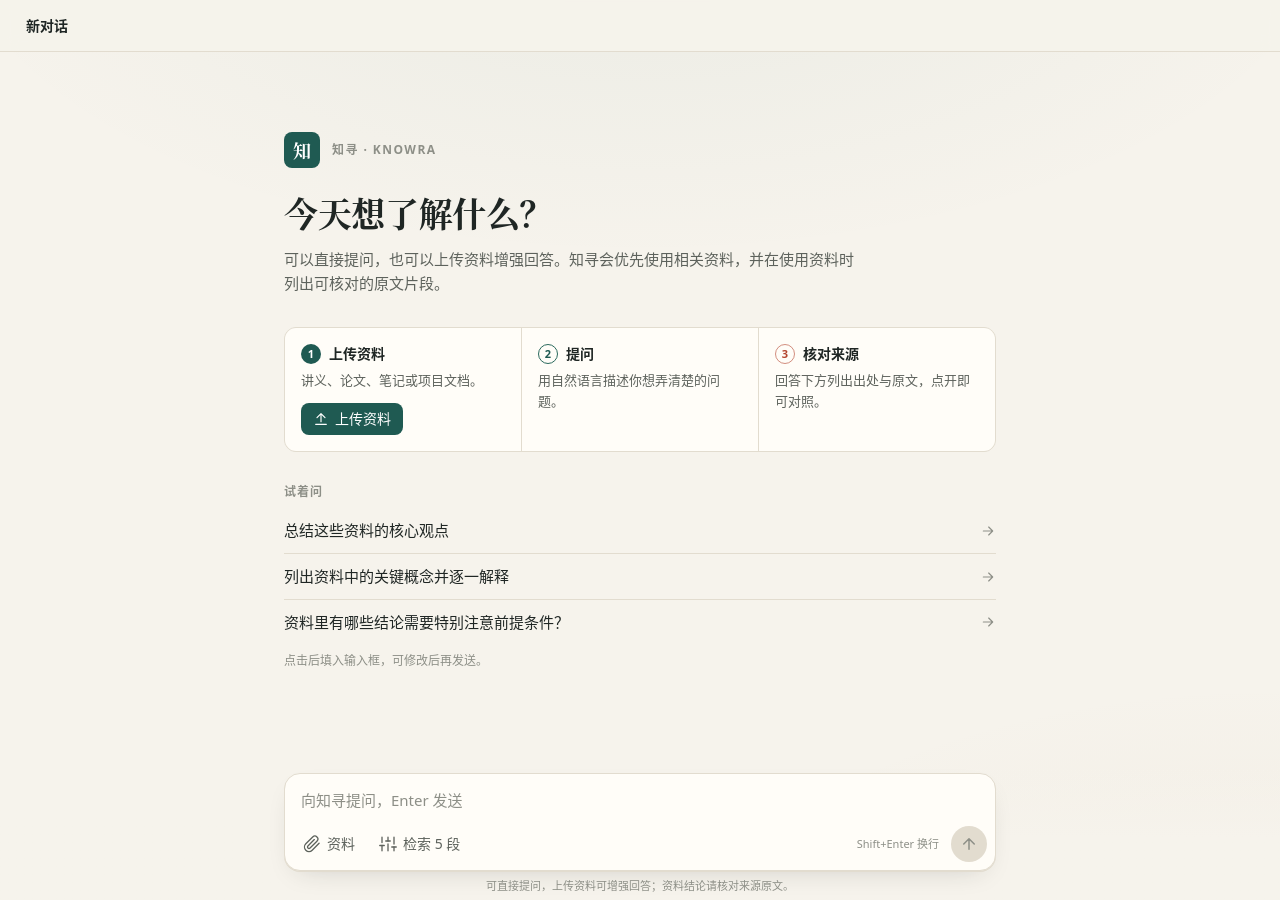
ChatArea 流式回答 › 正文出现前失败仍显示明确原因
Type "什么是特征值" into the text box with test id "chat-input" at (640, 800), box x1=285 y1=774 x2=995 y2=826
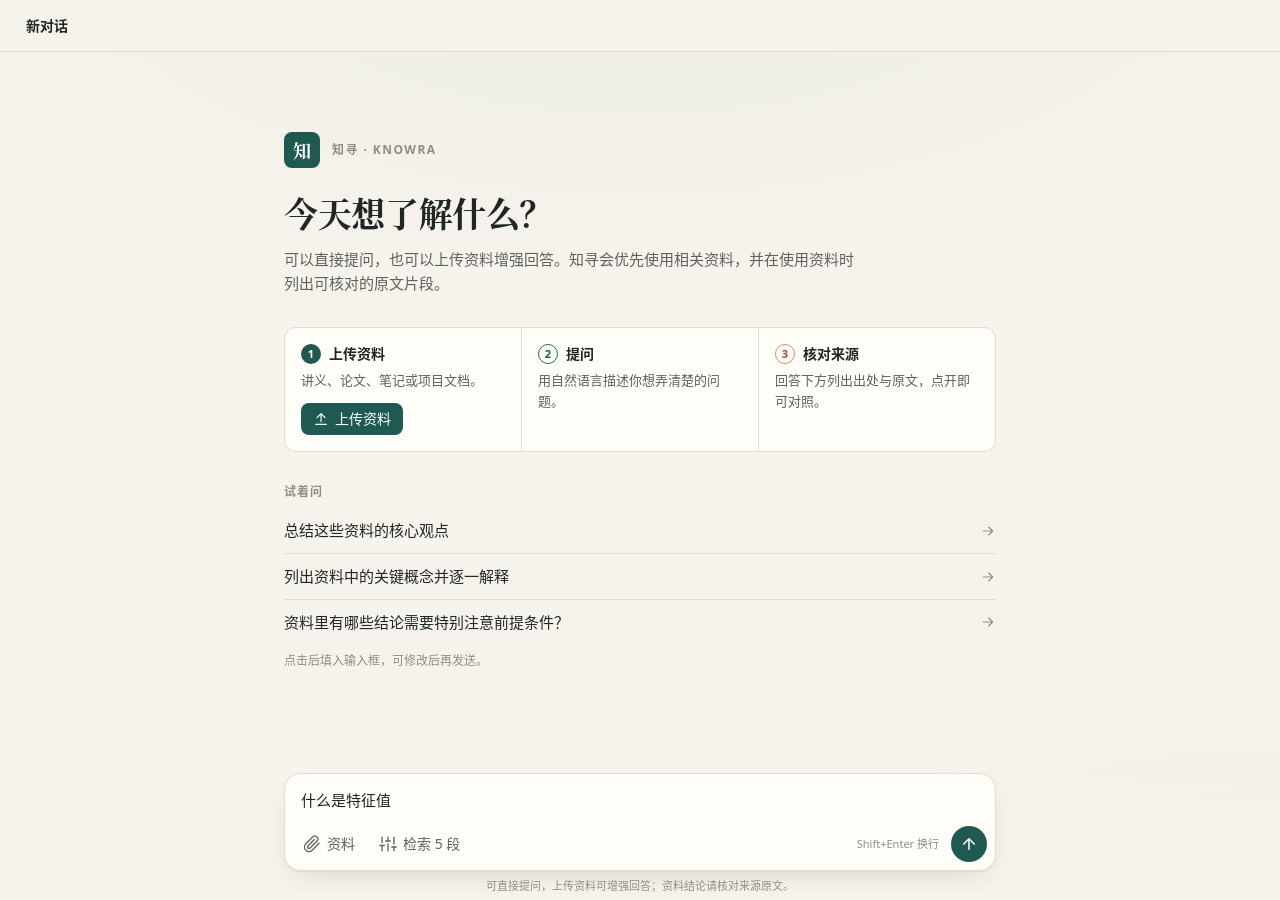
Press Enter in the text box with test id "chat-input", box x1=285 y1=774 x2=995 y2=826
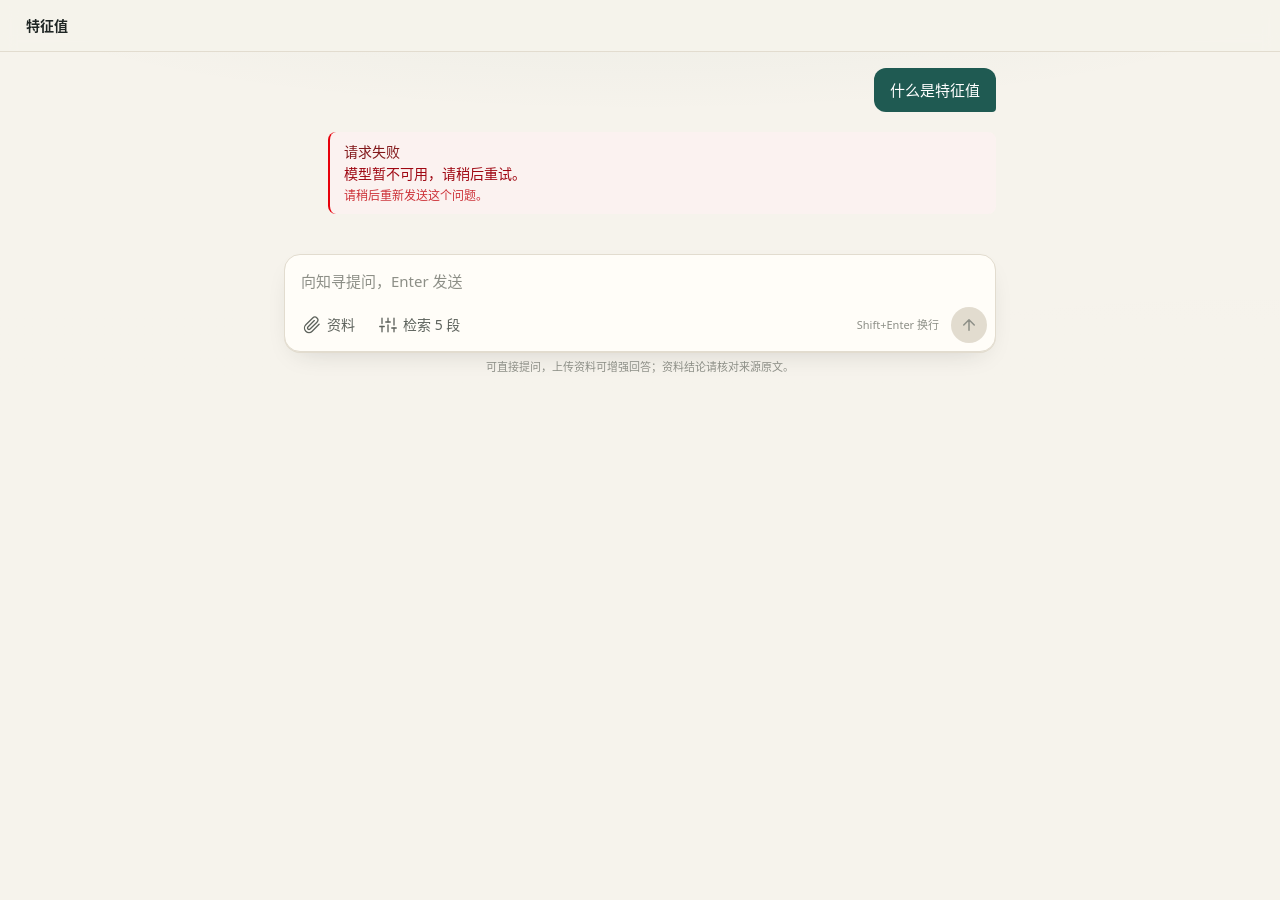
Now the text "模型暂不可用" is shown, box x1=344 y1=164 x2=526 y2=183
Type "继续解释特征值" into the text box with test id "chat-input" at (640, 281), box x1=285 y1=255 x2=995 y2=307
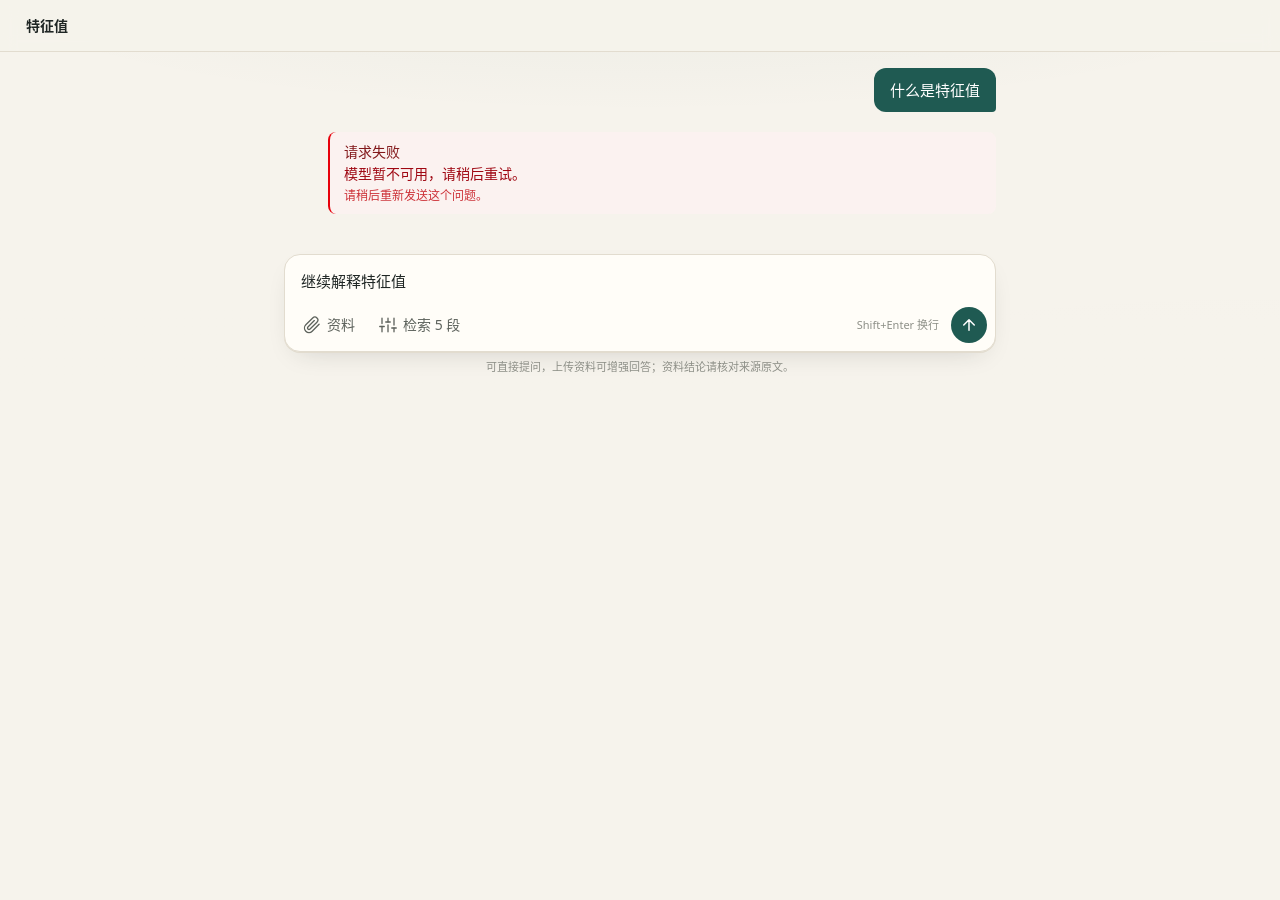
Now the button with test id "send-button" is enabled, box x1=951 y1=307 x2=987 y2=343
